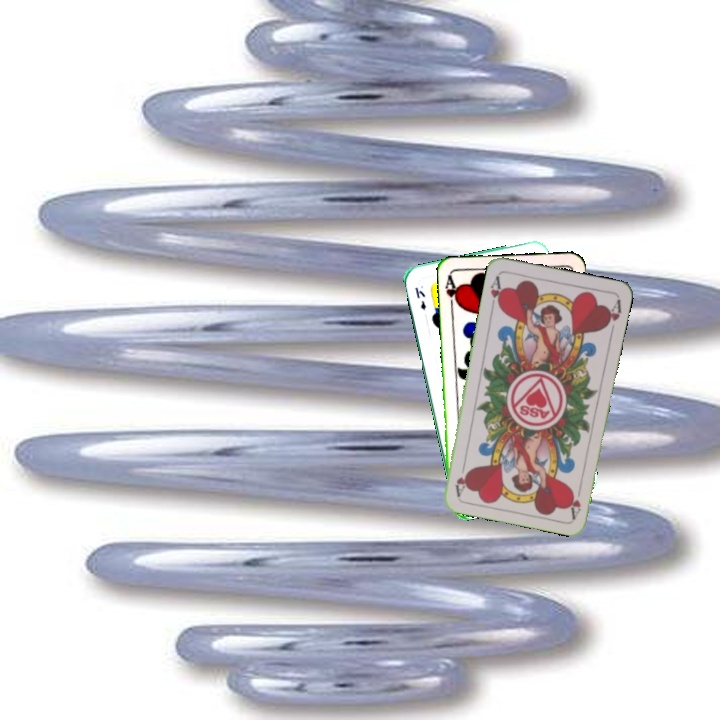EK: (411, 283, 429, 312)
HA: (441, 272, 462, 312), (486, 272, 506, 312), (565, 480, 584, 520)
